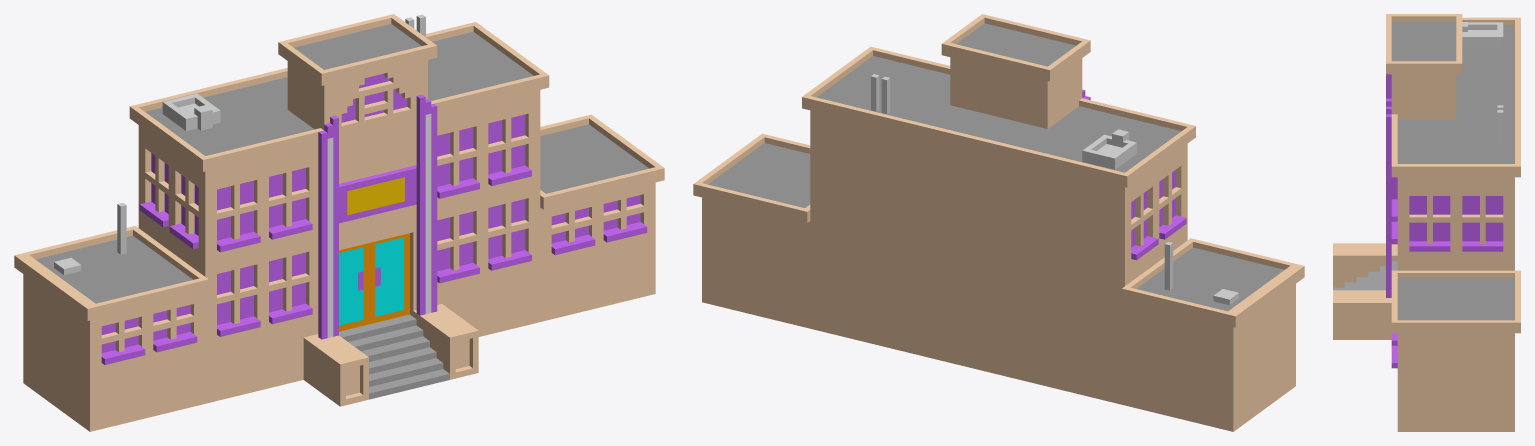
File: edificio6.obj
3 views of the same model, side by side, from view 1: azimuth 30°, elevation 25°; view 2: azimuth 150°, elevation 25°; view 3: azimuth 270°, elevation 25° (orthographic). The views are drawn at different scales.
Size of the model in its own units: 10 by 5.1 by 3.2.
Materials: 1 (1 with a texture image).
